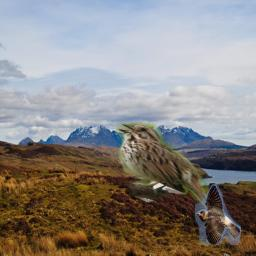Sparrow: (116, 122, 219, 223)
Swallow: (195, 184, 241, 245)
